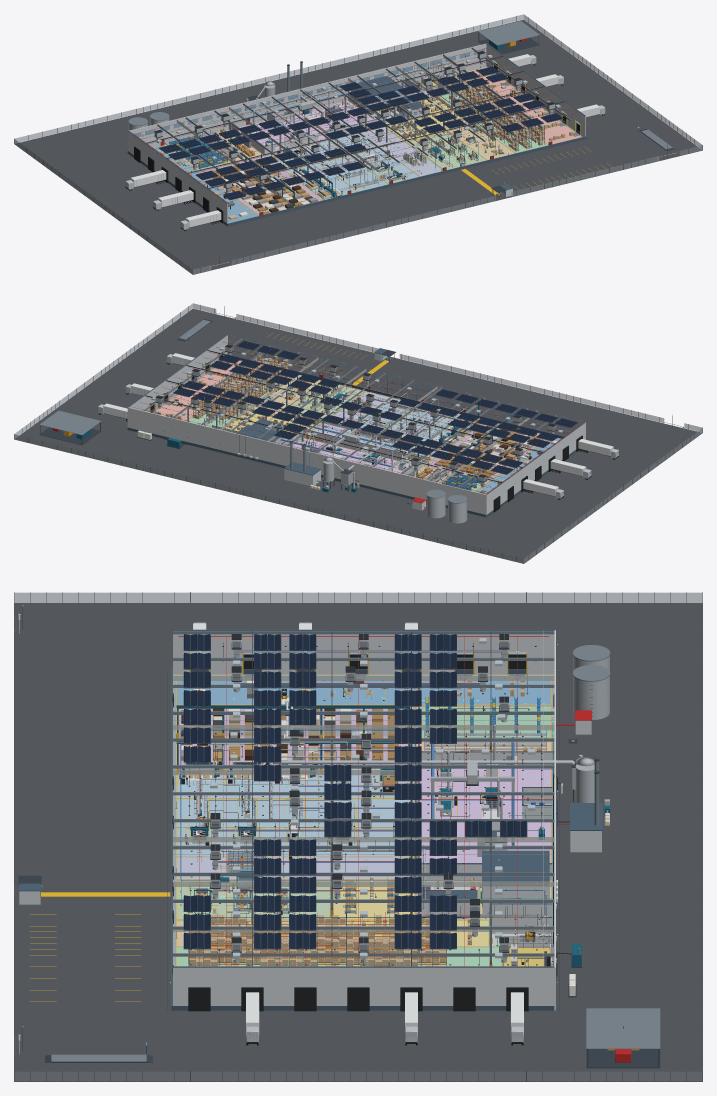
The model's file is factory_web.glb.
3 renders of one model, top to bottom at view 1: azimuth 30°, elevation 25°; view 2: azimuth 150°, elevation 25°; view 3: azimuth 270°, elevation 25°, orthographic. The views are drawn at different scales.
Visible parts, largest first — view 1: TERRITORY, Стіни, PV-ROOF, FENCE, Ферми, SPRINKLERS, WASTE, Перегородки, SMOKE-CURTAINS, Z-OUT, Z-SORT, Z-FAC (+17 smaller); view 2: TERRITORY, Стіни, PV-ROOF, FENCE, Ферми, OUTSIDE, SPRINKLERS, WASTE, SMOKE-CURTAINS, DUST, Перегородки, Z-OUT (+18 smaller); view 3: TERRITORY, PV-ROOF, Стіни, Ферми, FENCE, SMOKE-CURTAINS, OUTSIDE, Z-RCV, Z-FAC, WASTE, Перегородки, Z-EB (+24 smaller).
Boxes of the visible parts, x1,y1,x2,y2 form: TERRITORY: [14, 19, 702, 274]; Стіни: [127, 43, 586, 226]; PV-ROOF: [159, 66, 563, 200]; FENCE: [14, 14, 702, 274]; Ферми: [146, 47, 571, 204]; SPRINKLERS: [132, 48, 576, 203]; WASTE: [478, 21, 539, 54]; Перегородки: [228, 77, 436, 155]; SMOKE-CURTAINS: [176, 56, 542, 194]; Z-OUT: [457, 67, 580, 144]; Z-SORT: [361, 127, 442, 176]; Z-FAC: [239, 101, 373, 151]; TERRITORY: [14, 308, 702, 563]; Стіни: [127, 334, 585, 517]; PV-ROOF: [173, 341, 577, 474]; FENCE: [14, 303, 702, 563]; Ферми: [143, 338, 563, 487]; OUTSIDE: [284, 441, 467, 523]; SPRINKLERS: [133, 342, 581, 494]; WASTE: [39, 410, 101, 445]; SMOKE-CURTAINS: [174, 353, 537, 483]; DUST: [312, 392, 466, 492]; Перегородки: [212, 425, 422, 474]; Z-OUT: [156, 361, 249, 420]; TERRITORY: [14, 602, 702, 1081]; PV-ROOF: [183, 634, 527, 949]; Стіни: [171, 629, 555, 1010]; Ферми: [173, 631, 554, 966]; FENCE: [14, 592, 702, 1081]; SMOKE-CURTAINS: [173, 676, 554, 931]; OUTSIDE: [556, 645, 610, 852]; Z-RCV: [176, 675, 551, 704]; Z-FAC: [418, 768, 551, 879]; WASTE: [586, 1008, 660, 1068]; Перегородки: [416, 751, 554, 934]; Z-EB: [176, 799, 413, 827].
Bounding box in the file's own units: 214 × 16.44 × 130.
